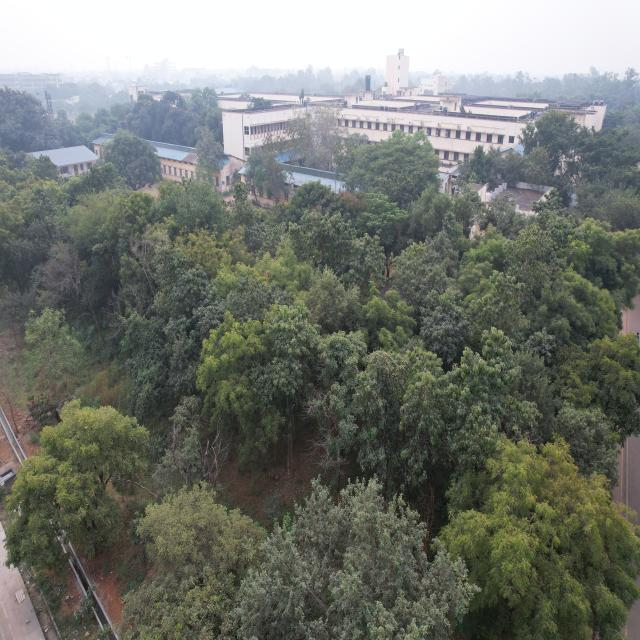Devakanchan tree: (287, 503, 446, 639), (316, 339, 456, 472)
Mango Tree: (112, 141, 165, 187)
Neem Tree: (473, 454, 627, 621), (208, 329, 272, 444), (196, 233, 314, 293), (580, 225, 633, 325)
